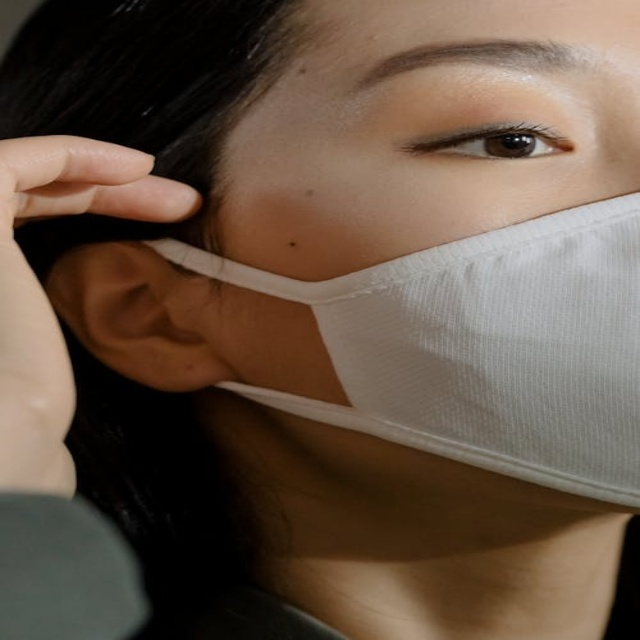Mascara: (132, 176, 640, 517)
Sin_gafas: (411, 125, 574, 162)
Sin_guantes: (3, 115, 218, 496)
